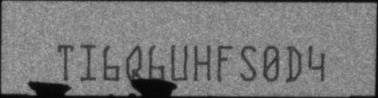0: (262, 43, 281, 83)
4: (307, 43, 326, 82)
6: (147, 43, 166, 81), (102, 42, 120, 81)
D: (284, 43, 303, 82)
G: (216, 43, 234, 83)
H: (192, 41, 212, 81)
I: (79, 42, 98, 81)
Q: (124, 43, 144, 80)
S: (239, 43, 258, 83)
T: (56, 42, 74, 81)
U: (170, 42, 189, 81)
